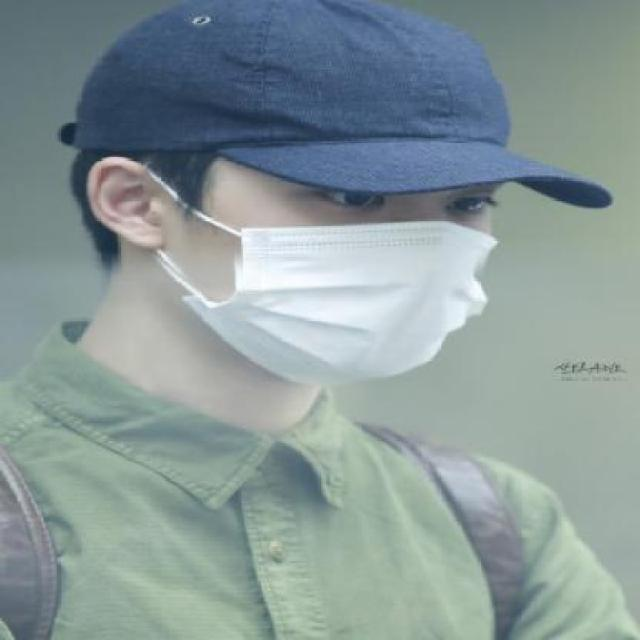hat: (62, 0, 613, 212)
